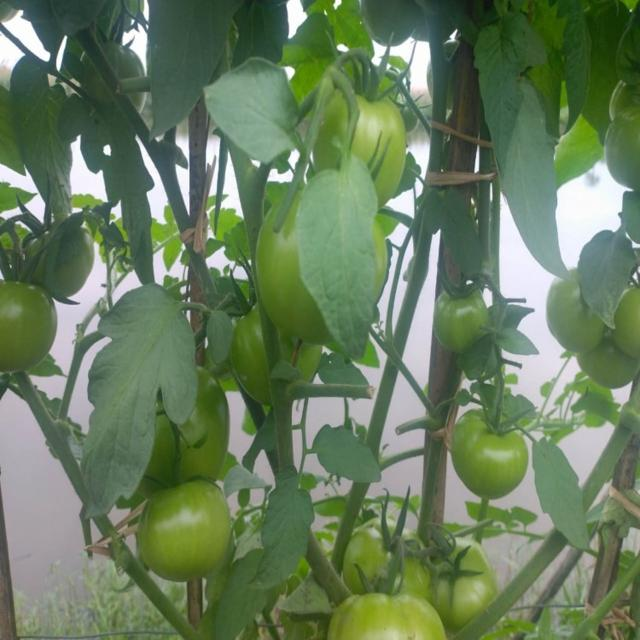tomato: (136, 478, 228, 582), (254, 199, 319, 337), (453, 406, 523, 505), (334, 584, 444, 640), (154, 387, 217, 483), (357, 87, 409, 200), (1, 277, 56, 372), (421, 551, 492, 622), (358, 521, 423, 595), (546, 273, 595, 353), (234, 315, 274, 412), (575, 338, 640, 391), (432, 293, 484, 350), (607, 107, 640, 191), (326, 84, 355, 169), (105, 37, 138, 89), (64, 238, 88, 301), (617, 292, 640, 351)
